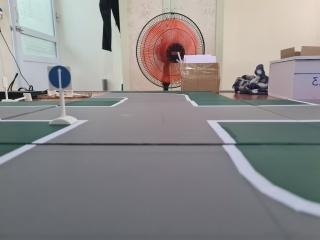straight: (46, 65, 73, 91)
